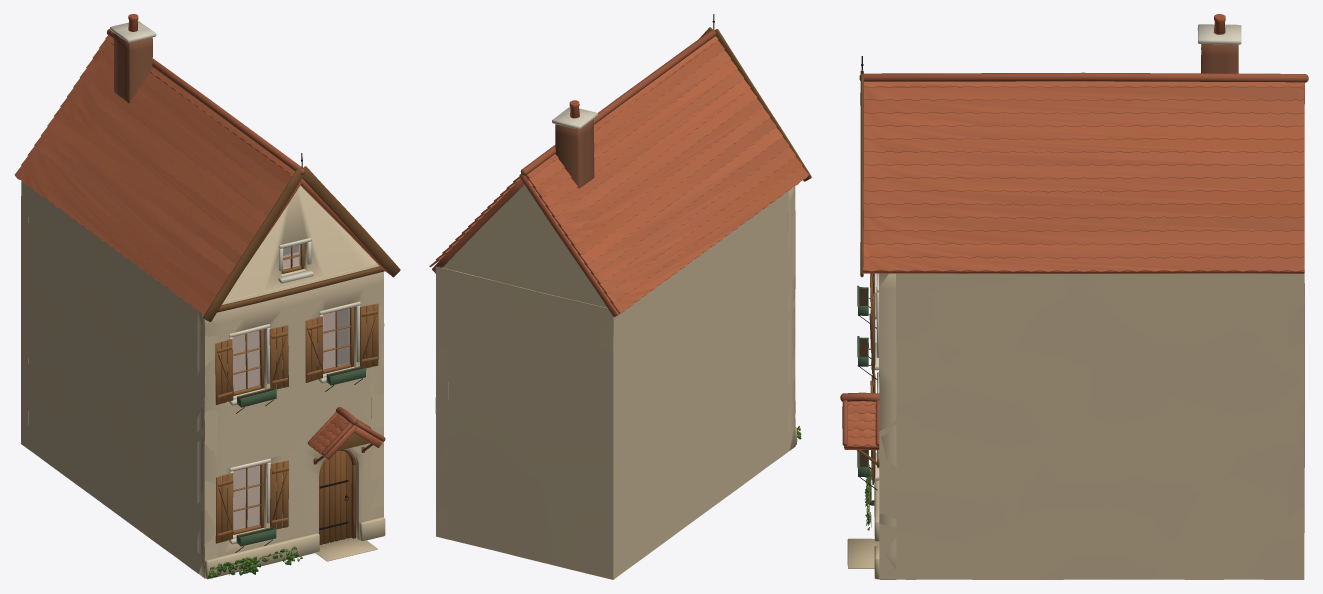
File: Opposite_Opposite2_5.glb
3 views of the same model, side by side, from view 1: azimuth 30°, elevation 25°; view 2: azimuth 150°, elevation 25°; view 3: azimuth 270°, elevation 25° (orthographic). The views are drawn at different scales.
Visible parts, largest first — view 1: Sammel Putz, Sammel Stein, Sammel Holz, Glas, Sammel Putz innen, Sammel Ziegel, Sammel Lack, Sammel Pflanze; view 2: Sammel Putz, Sammel Stein, Sammel Ziegel, Sammel Holz; view 3: Sammel Putz, Sammel Stein, Sammel Holz, Sammel Ziegel, Sammel Lack.
Boxes of the visible parts, left/top/right/bottom form: Sammel Putz: left=21, top=14, right=384, bottom=578; Sammel Stein: left=14, top=29, right=390, bottom=579; Sammel Holz: left=203, top=166, right=400, bottom=544; Glas: left=233, top=244, right=349, bottom=530; Sammel Putz innen: left=233, top=252, right=348, bottom=529; Sammel Ziegel: left=113, top=33, right=152, bottom=103; Sammel Lack: left=236, top=366, right=366, bottom=546; Sammel Pflanze: left=208, top=546, right=302, bottom=578; Sammel Putz: left=435, top=100, right=798, bottom=579; Sammel Stein: left=429, top=29, right=808, bottom=444; Sammel Ziegel: left=555, top=119, right=594, bottom=188; Sammel Holz: left=699, top=27, right=811, bottom=181; Sammel Putz: left=859, top=14, right=1304, bottom=579; Sammel Stein: left=840, top=72, right=1308, bottom=579; Sammel Holz: left=856, top=70, right=879, bottom=484; Sammel Ziegel: left=1201, top=44, right=1238, bottom=73; Sammel Lack: left=857, top=285, right=868, bottom=476.
Bounding box in the file's own units: 4.95 × 10.56 × 8.81.
